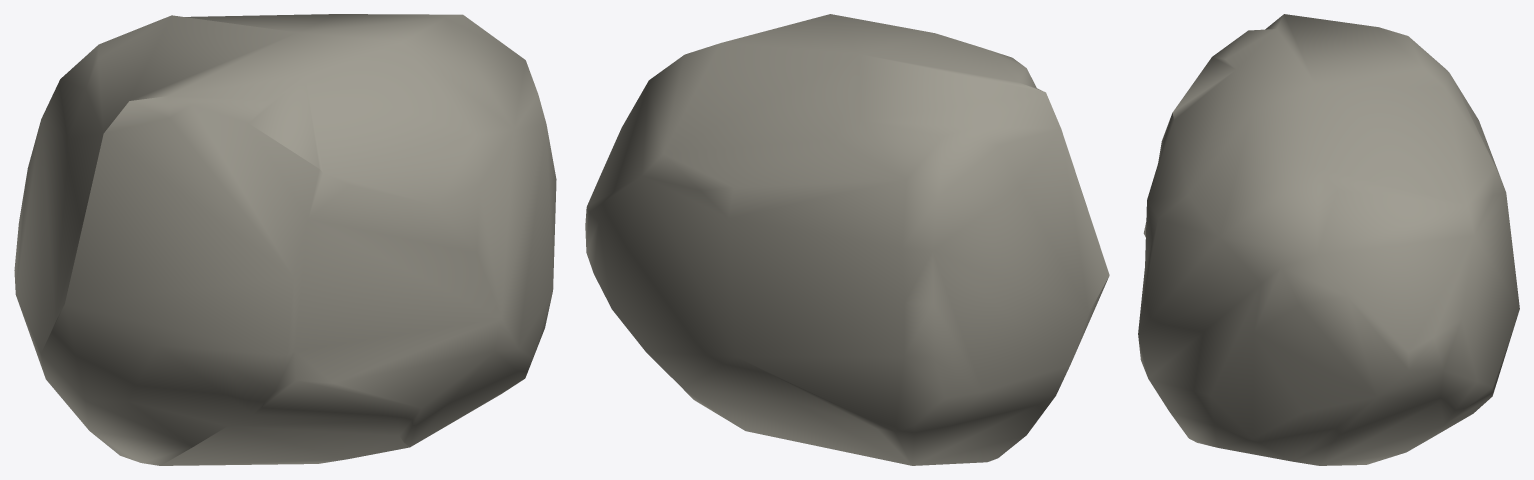
File: Environment_Rock_3.gltf
3 views of the same model, side by side, from view 1: azimuth 30°, elevation 25°; view 2: azimuth 150°, elevation 25°; view 3: azimuth 270°, elevation 25° (orthographic). The views are drawn at different scales.
Visible parts, largest first — view 1: Environment_Rock_3; view 2: Environment_Rock_3; view 3: Environment_Rock_3.
Part boxes in pixels (left/top/right/bottom): Environment_Rock_3: left=14, top=14, right=556, bottom=465; Environment_Rock_3: left=585, top=14, right=1109, bottom=465; Environment_Rock_3: left=1138, top=14, right=1519, bottom=465.
Bounding box in the file's own units: 0.7696 × 0.6076 × 0.584.
1 material, 1 textured.
